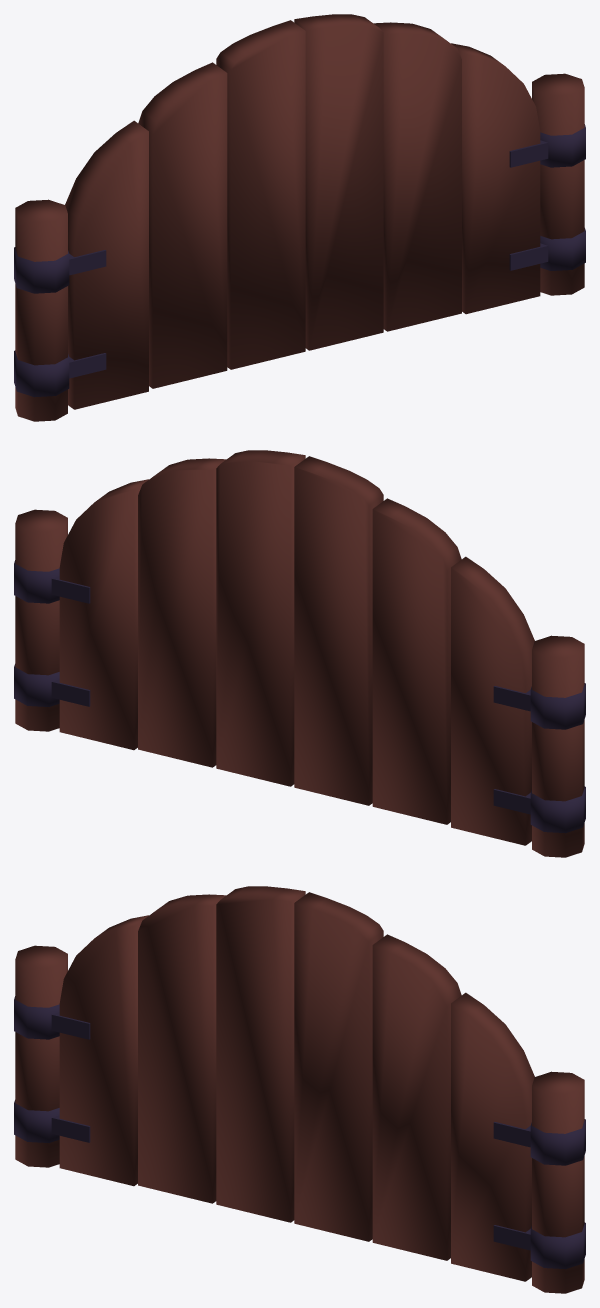
Rendered from gate.glb.
3 views of the same model, one above another, from view 1: azimuth 30°, elevation 25°; view 2: azimuth 150°, elevation 25°; view 3: azimuth 330°, elevation 25° (orthographic).
Parts seen in each view (by area): view 1: GateDoorLeft, GateDoorRight, GatePoleLeft, GatePoleRight; view 2: GateDoorLeft, GateDoorRight, GatePoleLeft, GatePoleRight; view 3: GateDoorRight, GateDoorLeft, GatePoleRight, GatePoleLeft.
Boxes of the visible parts, x1,y1,x2,y2 form: GateDoorLeft: (65,20,305,409); GateDoorRight: (294,14,548,350); GatePoleLeft: (14,199,69,421); GatePoleRight: (532,73,585,295); GateDoorLeft: (294,456,534,845); GateDoorRight: (51,450,305,786); GatePoleLeft: (530,635,585,857); GatePoleRight: (14,509,67,731); GateDoorRight: (294,892,534,1281); GateDoorLeft: (51,886,305,1222); GatePoleRight: (530,1071,585,1293); GatePoleLeft: (14,945,67,1167).
Bounding box in the file's own units: 8.96 × 4.88 × 0.785.
